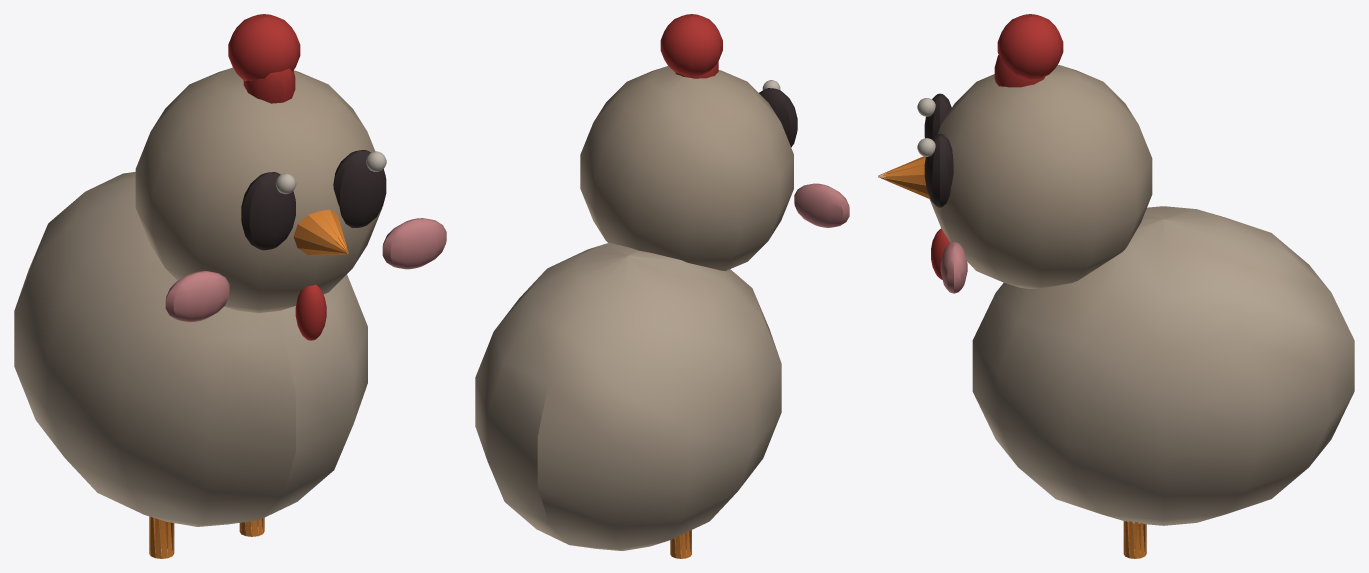
File: p11fbc6dd.glb
3 renders of one model, left to right at view 1: azimuth 30°, elevation 25°; view 2: azimuth 150°, elevation 25°; view 3: azimuth 270°, elevation 25°, orthographic. The views are drawn at different scales.
Visible parts, largest first — view 1: pet_p11fbc6dd; view 2: pet_p11fbc6dd; view 3: pet_p11fbc6dd.
Part boxes in pixels (<box>): pet_p11fbc6dd: <box>14,14,446,558</box>; pet_p11fbc6dd: <box>475,14,849,558</box>; pet_p11fbc6dd: <box>878,14,1354,558</box>.
Bounding box in the file's own units: 0.3181 × 0.6 × 0.5009.
